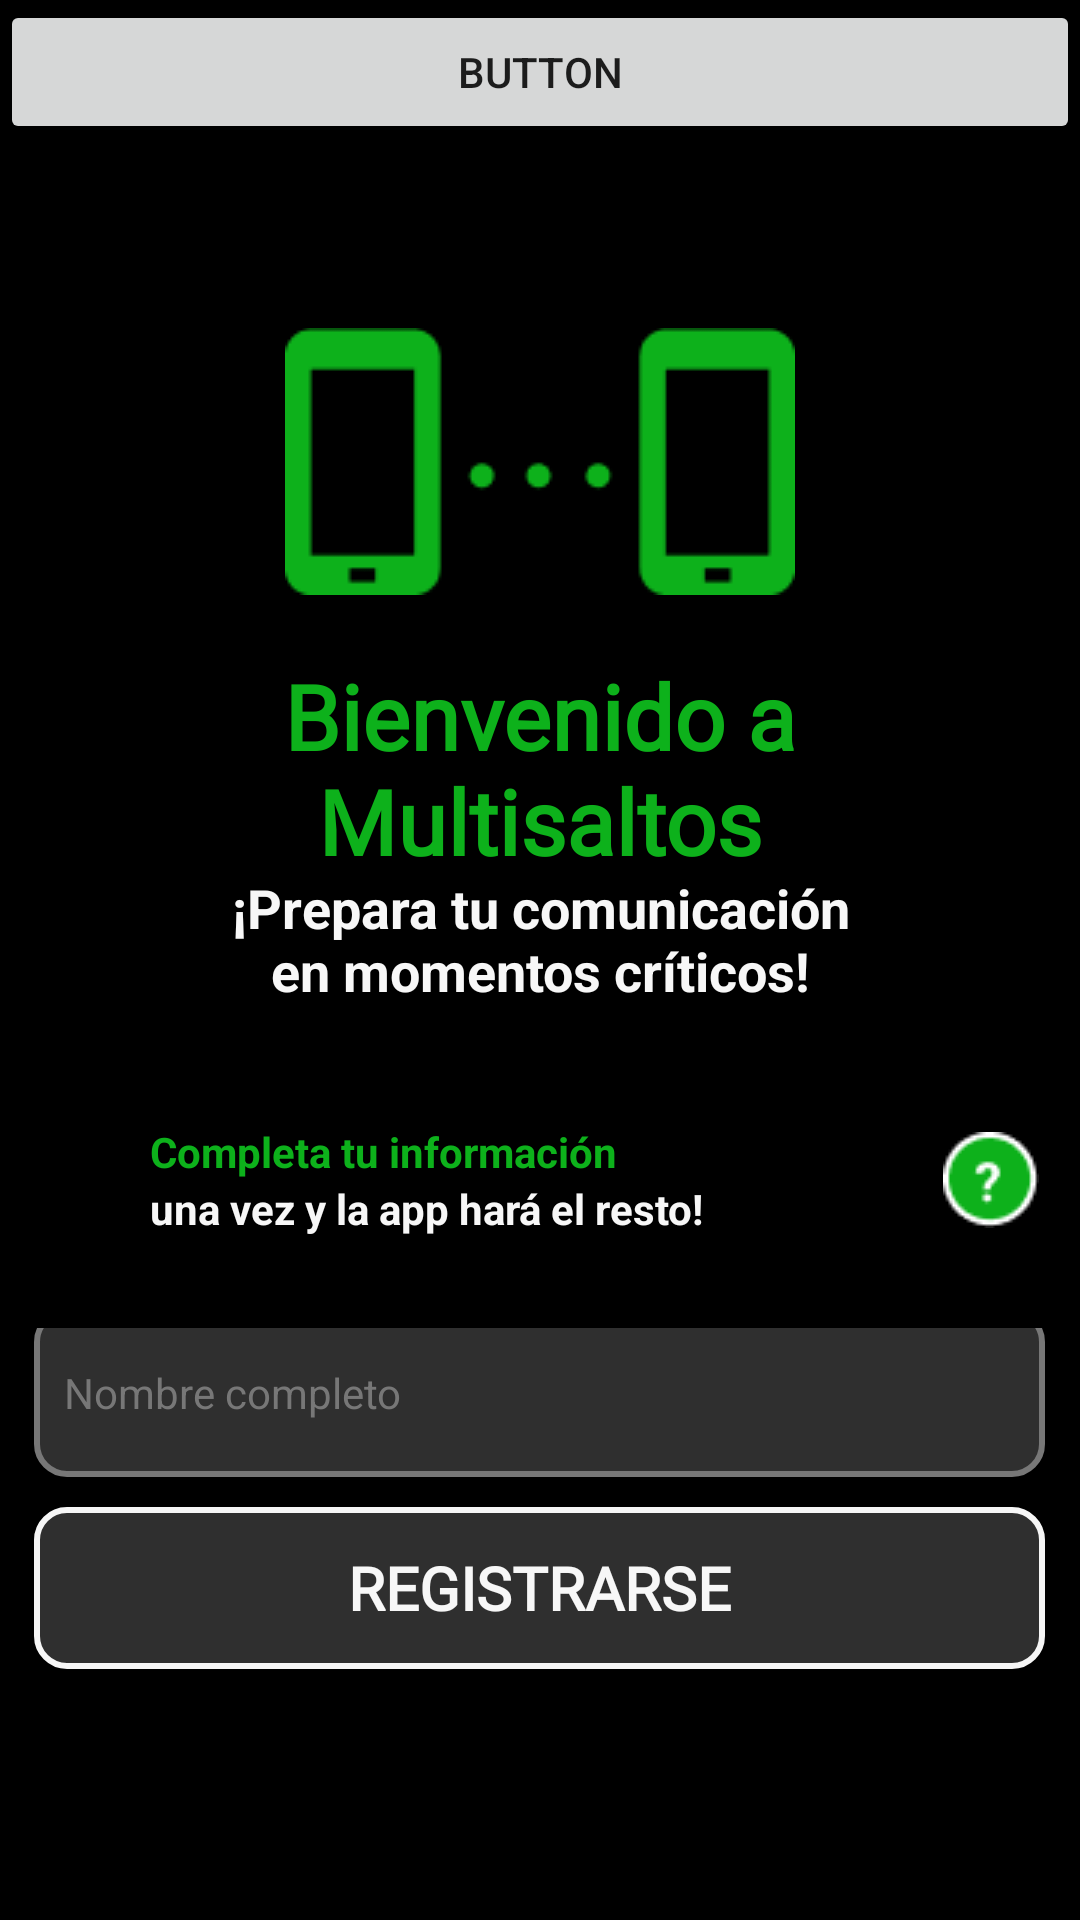

Icons on this 1080*1920 Android screen, each with the point to tap as point (x, y):
Aparece un signo de pregunta: point (991, 1180)
